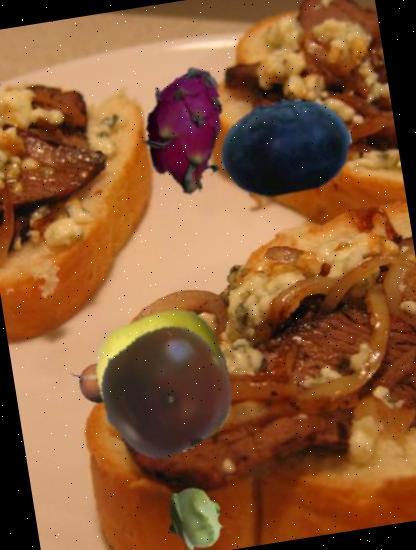Apple: (83, 300, 249, 466)
Blueberry: (210, 70, 362, 222)
Granadilla: (65, 354, 124, 412)
Kohlrabi: (157, 481, 234, 550)
Pitahaya: (115, 58, 260, 202)
Tomato: (91, 316, 241, 466)
